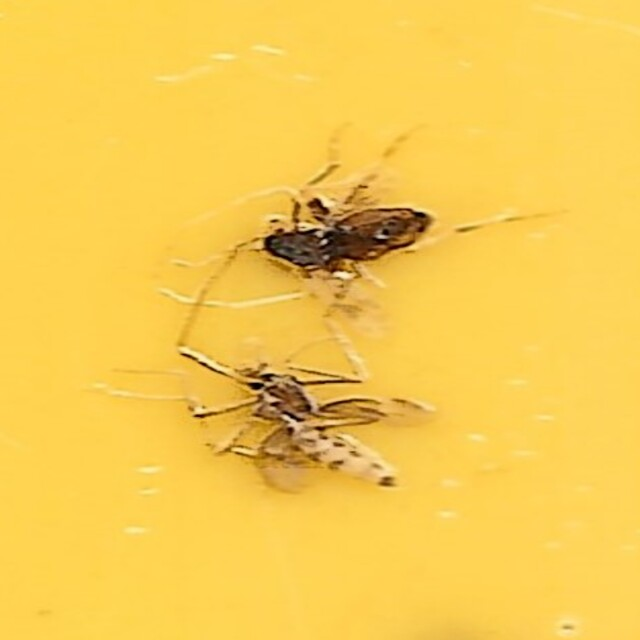Nematocera: (204, 356, 427, 508), (254, 132, 436, 293)
